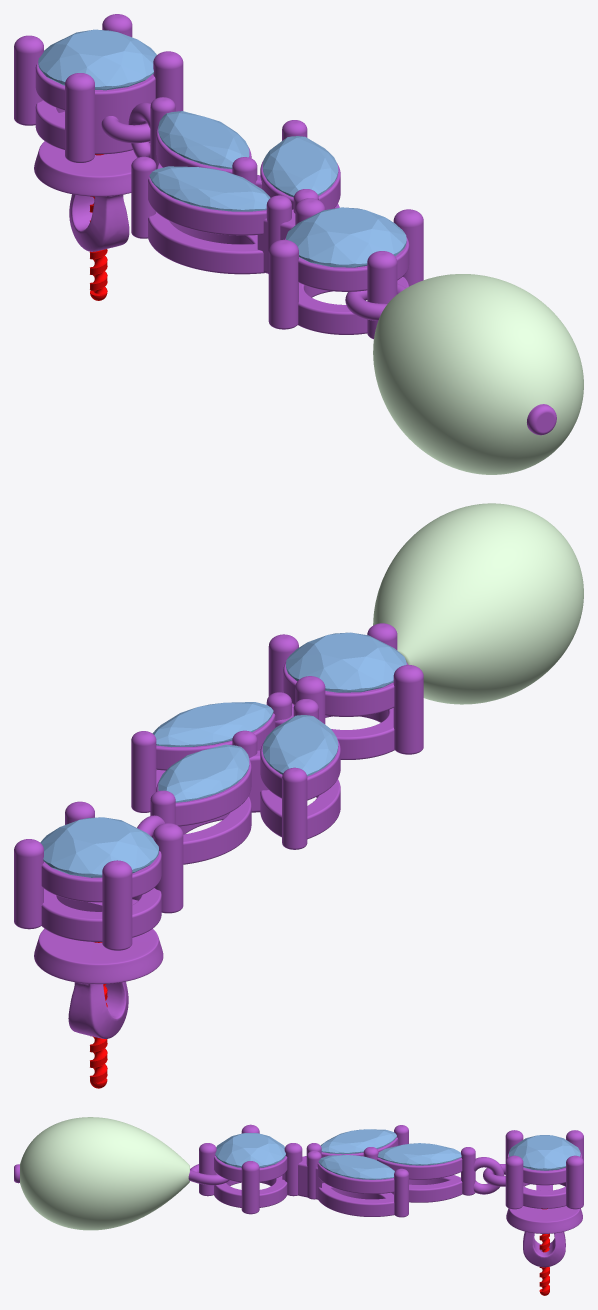
The picture shows the model from 3 angles, top to bottom: view 1: azimuth 30°, elevation 25°; view 2: azimuth 150°, elevation 25°; view 3: azimuth 270°, elevation 25°; orthographic projection. The views are drawn at different scales.
Parts seen in each view (by area): view 1: ZB-299 - Danielle King.3dm, Head Rail (×8), Head Prong (×9), Diamond_Marquise (×3), Diamond_Round (×2), Rhinoceros Binary STL ( Feb 22 2021 ) (×2); view 2: ZB-299 - Danielle King.3dm, Head Rail (×9), Head Prong (×8), Diamond_Marquise (×3), Diamond_Round (×2), Rhinoceros Binary STL ( Feb 22 2021 ) (×2); view 3: ZB-299 - Danielle King.3dm, Head Rail (×8), Head Prong (×10), Diamond_Marquise (×3), Diamond_Round (×2), Rhinoceros Binary STL ( Feb 22 2021 ) (×2).
Part boxes in pixels (left/top/right/bottom): ZB-299 - Danielle King.3dm: left=59, top=98, right=583, bottom=474; Head Rail (×8): left=35, top=63, right=409, bottom=334; Head Prong (×9): left=14, top=35, right=423, bottom=339; Diamond_Marquise (×3): left=149, top=111, right=338, bottom=211; Diamond_Round (×2): left=38, top=29, right=406, bottom=267; Rhinoceros Binary STL ( Feb 22 2021 ) (×2): left=34, top=141, right=150, bottom=251; ZB-299 - Danielle King.3dm: left=57, top=503, right=583, bottom=1088; Head Rail (×9): left=41, top=662, right=407, bottom=941; Head Prong (×8): left=14, top=634, right=423, bottom=950; Diamond_Marquise (×3): left=152, top=702, right=338, bottom=802; Diamond_Round (×2): left=40, top=632, right=406, bottom=877; Rhinoceros Binary STL ( Feb 22 2021 ) (×2): left=34, top=928, right=163, bottom=1038; ZB-299 - Danielle King.3dm: left=14, top=1117, right=552, bottom=1295; Head Rail (×8): left=214, top=1153, right=582, bottom=1216; Head Prong (×10): left=199, top=1130, right=583, bottom=1217; Diamond_Marquise (×3): left=318, top=1129, right=461, bottom=1179; Diamond_Round (×2): left=215, top=1133, right=580, bottom=1170; Rhinoceros Binary STL ( Feb 22 2021 ) (×2): left=506, top=1206, right=582, bottom=1267.
Bounding box in the file's own units: 0.7729 × 1.25 × 3.72.
